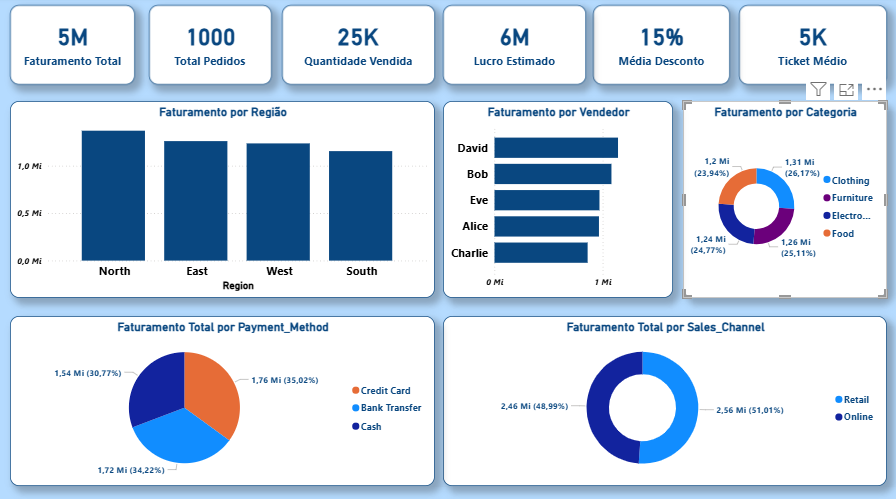

The dashboard page shown, as its layout file describes it:
{"tool":"powerbi","page":{"name":"Dash_vendas","canvas":[1280,720],"ordinal":0},"visuals":[{"type":"advanceCardE03760C5AB684758B56AA29F9E6C257B","fields":{"mainMeasure":["pipeline_vendas vendas.Faturamento Total"]},"box":[18.4,11.3,177.2,113.4],"z":0},{"type":"advanceCardE03760C5AB684758B56AA29F9E6C257B","fields":{"mainMeasure":["pipeline_vendas vendas.Total Pedidos"]},"box":[215.4,11.3,174.3,113.4],"z":1000},{"type":"advanceCardE03760C5AB684758B56AA29F9E6C257B","fields":{"mainMeasure":["pipeline_vendas vendas.Ticket Médio"]},"box":[1051.7,11.3,209.8,113.4],"z":2000},{"type":"advanceCardE03760C5AB684758B56AA29F9E6C257B","fields":{"mainMeasure":["pipeline_vendas vendas.Quantidade Vendida"]},"box":[403.9,11.3,216.9,113.4],"z":3000},{"type":"advanceCardE03760C5AB684758B56AA29F9E6C257B","fields":{"mainMeasure":["pipeline_vendas vendas.Média Desconto"]},"box":[844.7,11.3,194.2,113.4],"z":4000},{"type":"advanceCardE03760C5AB684758B56AA29F9E6C257B","fields":{"mainMeasure":["pipeline_vendas vendas.Lucro Estimado"]},"box":[632.1,11.3,202.7,113.4],"z":5000},{"type":"columnChart","title":"Faturamento por Região","fields":{"Category":["pipeline_vendas vendas.Region"],"Y":["pipeline_vendas vendas.Faturamento Total"]},"box":[18.4,147.4,602.4,279.2],"z":6000},{"type":"donutChart","title":"Faturamento por Categoria","fields":{"Category":["pipeline_vendas vendas.Product_Category"],"Y":["pipeline_vendas vendas.Faturamento Total"]},"box":[972.3,147.4,289.1,279.2],"z":7000},{"type":"donutChart","fields":{"Category":["pipeline_vendas vendas.Sales_Channel"],"Y":["pipeline_vendas vendas.Faturamento Total"]},"box":[632.1,452.1,629.3,240.9],"z":8000},{"type":"barChart","title":"Faturamento por Vendedor","fields":{"Category":["pipeline_vendas vendas.Sales_Rep"],"Y":["pipeline_vendas vendas.Faturamento Total"]},"box":[632.1,147.4,326,279.2],"z":9000},{"type":"pieChart","fields":{"Category":["pipeline_vendas vendas.Payment_Method"],"Y":["pipeline_vendas vendas.Faturamento Total"]},"box":[18.4,452.1,602.4,240.9],"z":10000}]}

Visuals, with their boxes in screenshot pixels (x1, y1, x2, y2), scaled from the page's 1280x720 canvas onto the 896x499 screenshot:
advanceCardE03760C5AB684758B56AA29F9E6C257B - pipeline_vendas vendas.Faturamento Total: locate(13, 8, 137, 86)
advanceCardE03760C5AB684758B56AA29F9E6C257B - pipeline_vendas vendas.Total Pedidos: locate(151, 8, 273, 86)
advanceCardE03760C5AB684758B56AA29F9E6C257B - pipeline_vendas vendas.Ticket Médio: locate(736, 8, 883, 86)
advanceCardE03760C5AB684758B56AA29F9E6C257B - pipeline_vendas vendas.Quantidade Vendida: locate(283, 8, 435, 86)
advanceCardE03760C5AB684758B56AA29F9E6C257B - pipeline_vendas vendas.Média Desconto: locate(591, 8, 727, 86)
advanceCardE03760C5AB684758B56AA29F9E6C257B - pipeline_vendas vendas.Lucro Estimado: locate(442, 8, 584, 86)
"Faturamento por Região" columnChart: locate(13, 102, 435, 296)
"Faturamento por Categoria" donutChart: locate(681, 102, 883, 296)
donutChart - pipeline_vendas vendas.Sales_Channel x pipeline_vendas vendas.Faturamento Total: locate(442, 313, 883, 480)
"Faturamento por Vendedor" barChart: locate(442, 102, 671, 296)
pieChart - pipeline_vendas vendas.Payment_Method x pipeline_vendas vendas.Faturamento Total: locate(13, 313, 435, 480)
